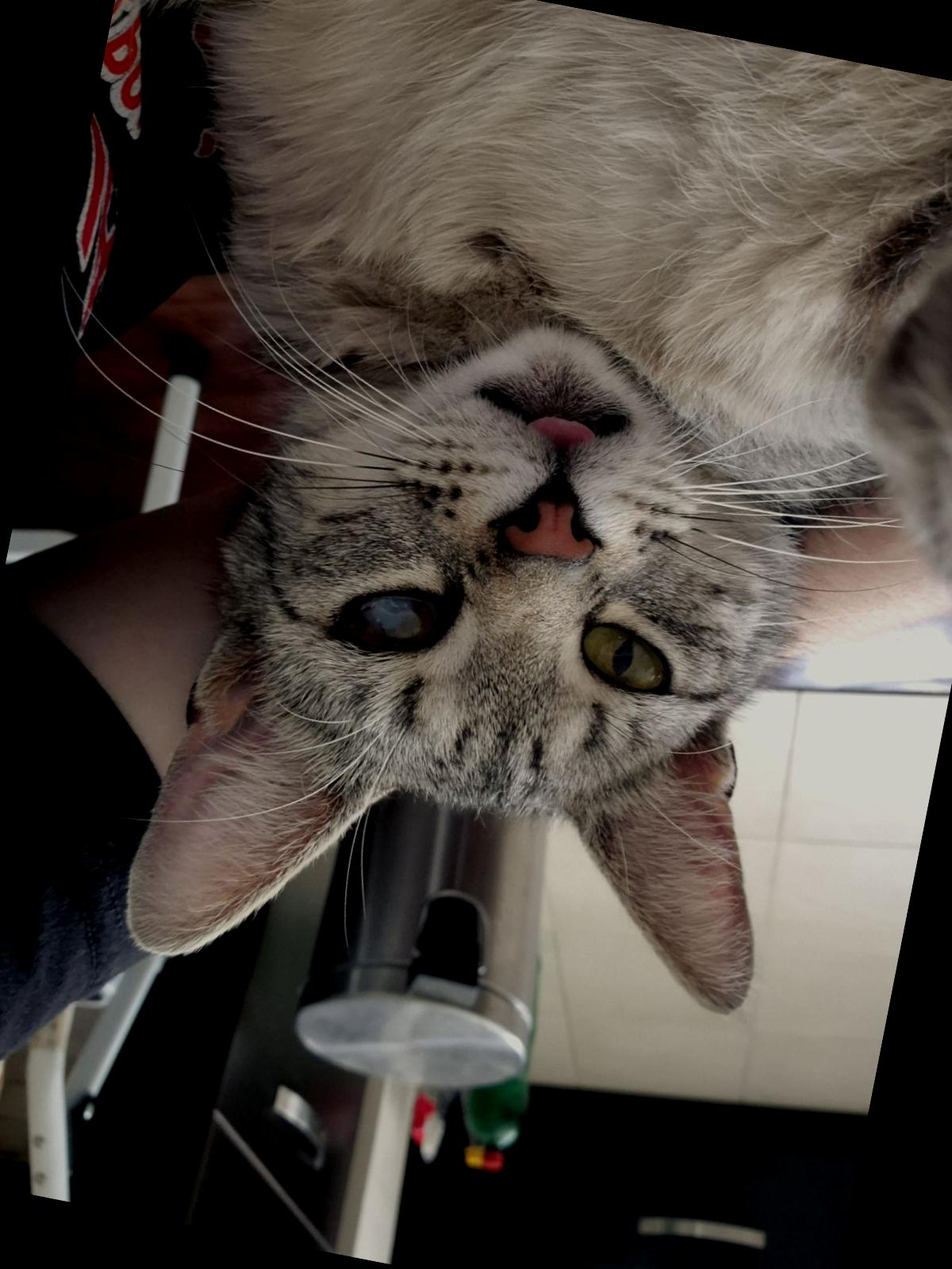macka: (0, 0, 952, 1090)
